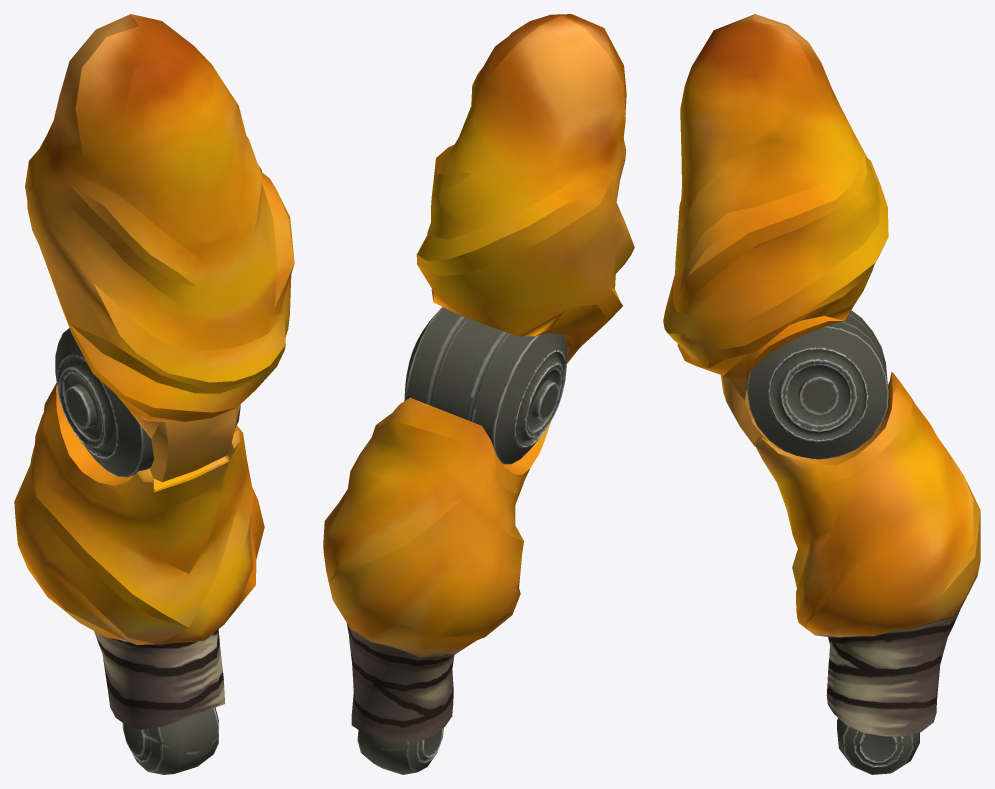
Rendered from legL.fbx.
3 renders of one model, left to right at view 1: azimuth 30°, elevation 25°; view 2: azimuth 150°, elevation 25°; view 3: azimuth 270°, elevation 25°, orthographic. The views are drawn at different scales.
Visible parts, largest first — view 1: matte_0.004, matte_1.002, submetalic_0.001; view 2: matte_0.004, matte_1.002, submetalic_0.001; view 3: matte_0.004, matte_1.002, submetalic_0.001.
Boxes of the visible parts, <box> form: matte_0.004: <box>25,14,294,482</box>; matte_1.002: <box>14,383,264,774</box>; submetalic_0.001: <box>55,328,240,477</box>; matte_0.004: <box>416,14,634,363</box>; matte_1.002: <box>323,397,551,774</box>; submetalic_0.001: <box>404,307,567,464</box>; matte_0.004: <box>663,14,888,446</box>; matte_1.002: <box>755,372,980,774</box>; submetalic_0.001: <box>746,310,888,459</box>.
Bounding box in the file's own units: 612 × 742 × 1815.
1 material, 1 textured.
